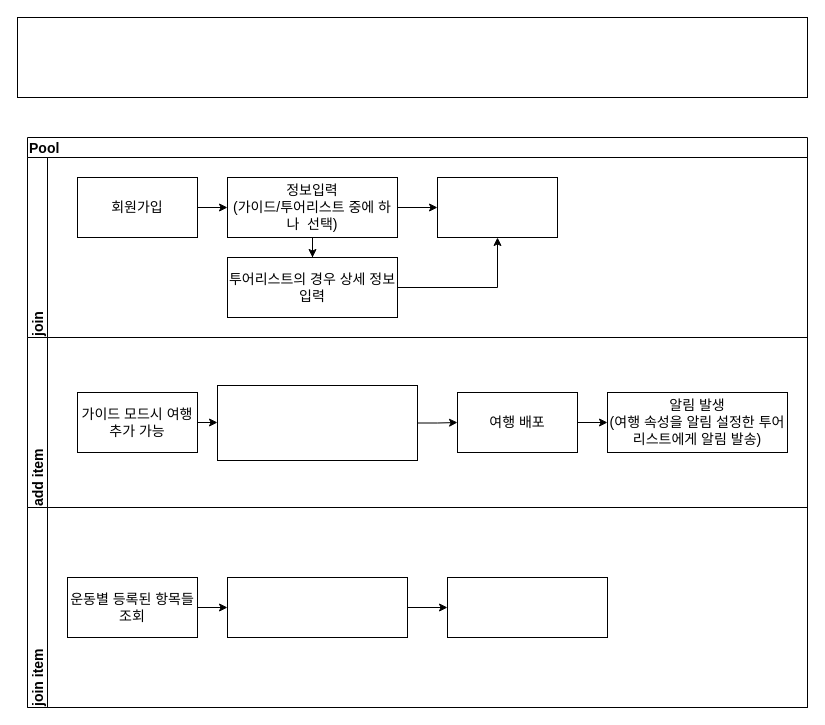
Some shapes in this 825 by 725 pixel diagram are drawn without their labels. The shapes that lost their labels are listed below. From the top down, each one's centre as x and y in pixels, then its label:
(x=412, y=57): Field Fitness Trip
(x=497, y=207): 가입 완료
(x=317, y=422): 여행 추가 (운동종류, 일자정보, 투어기간, 최소인원, 위치정보, 상세 일정 등록)
(x=317, y=607): 항목 선택시 가이드정보 및 항목 기본정보, 현재 참여인원 등 상세 표현
(x=527, y=607): 참여 기능 활성화
